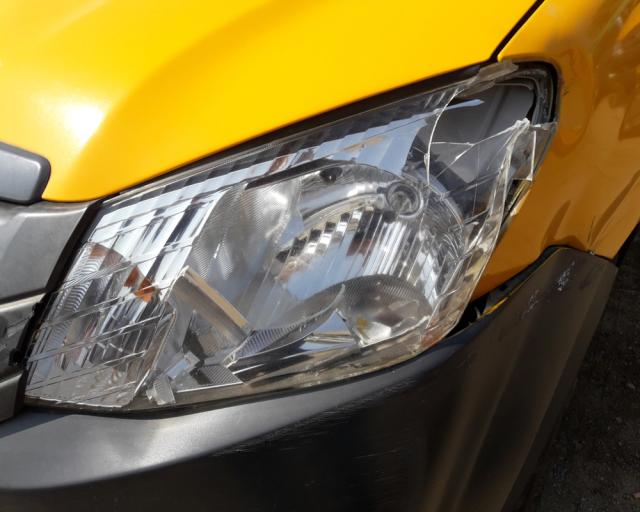lamp broken: (20, 68, 556, 415)
scratch: (209, 376, 428, 458), (517, 259, 580, 320)
